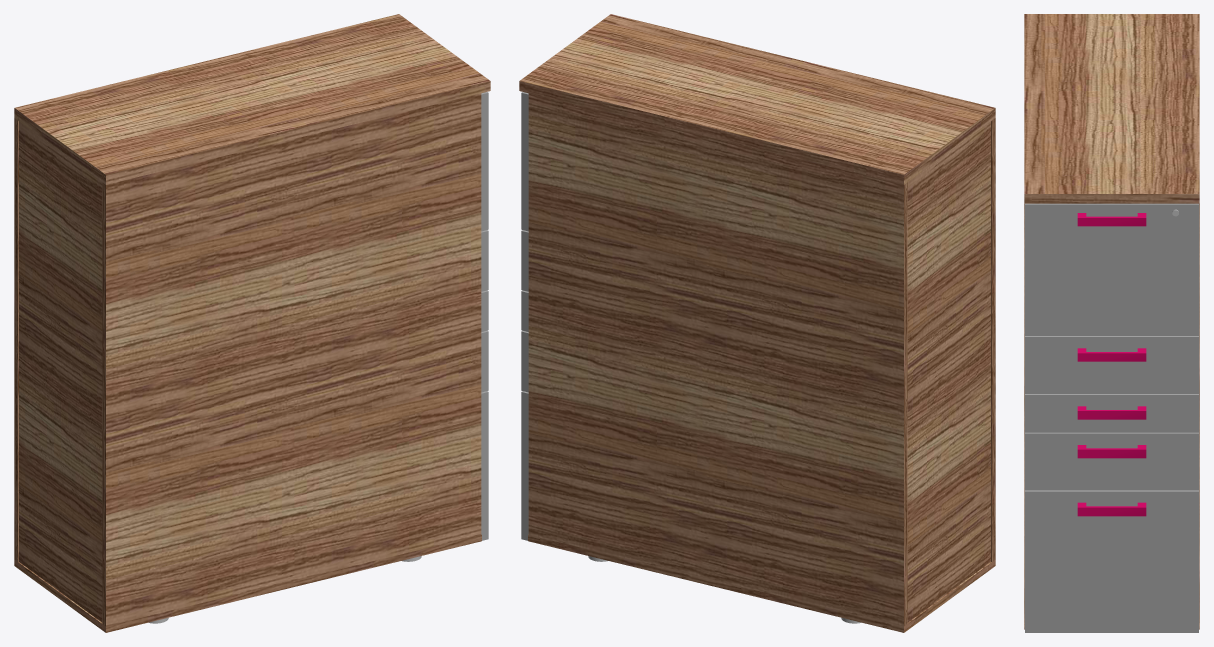
Rendered from high_cabinet_100_bracke_FINALPt.fbx.
The picture shows the model from 3 angles, left to right: view 1: azimuth 30°, elevation 25°; view 2: azimuth 150°, elevation 25°; view 3: azimuth 270°, elevation 25°; orthographic projection. The views are drawn at different scales.
Visible parts, largest first — view 1: drewno1_mesh, cos:polySurface1; view 2: drewno1_mesh, cos:polySurface1; view 3: cos:polySurface1, drewno1_mesh, handle_5_mesh, handle_1_mesh, handle_4_mesh, handle_2_mesh, handle_3_mesh.
Part boxes in pixels (box(x1,y1,x2,y2)): drewno1_mesh: box(14, 14, 490, 632); cos:polySurface1: box(481, 92, 488, 540); drewno1_mesh: box(519, 14, 995, 632); cos:polySurface1: box(521, 92, 528, 540); cos:polySurface1: box(1025, 203, 1198, 632); drewno1_mesh: box(1024, 14, 1199, 629); handle_5_mesh: box(1077, 502, 1146, 516); handle_1_mesh: box(1077, 213, 1146, 226); handle_4_mesh: box(1077, 445, 1146, 458); handle_2_mesh: box(1077, 348, 1146, 361); handle_3_mesh: box(1077, 406, 1146, 419).
Bounding box in the file's own units: 102 × 116 × 41.2.
